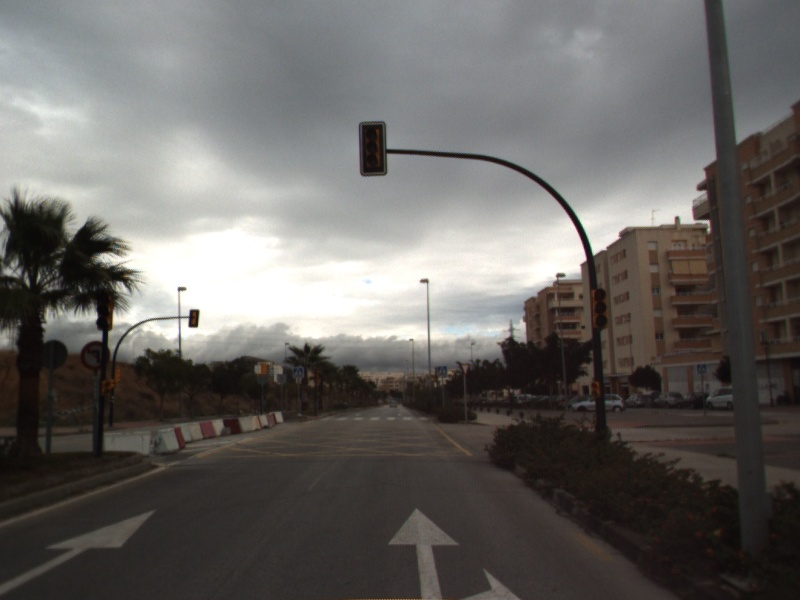STRAIGHT: (1, 506, 161, 597)
STRAIGHT_RIGHT: (385, 505, 525, 600)
